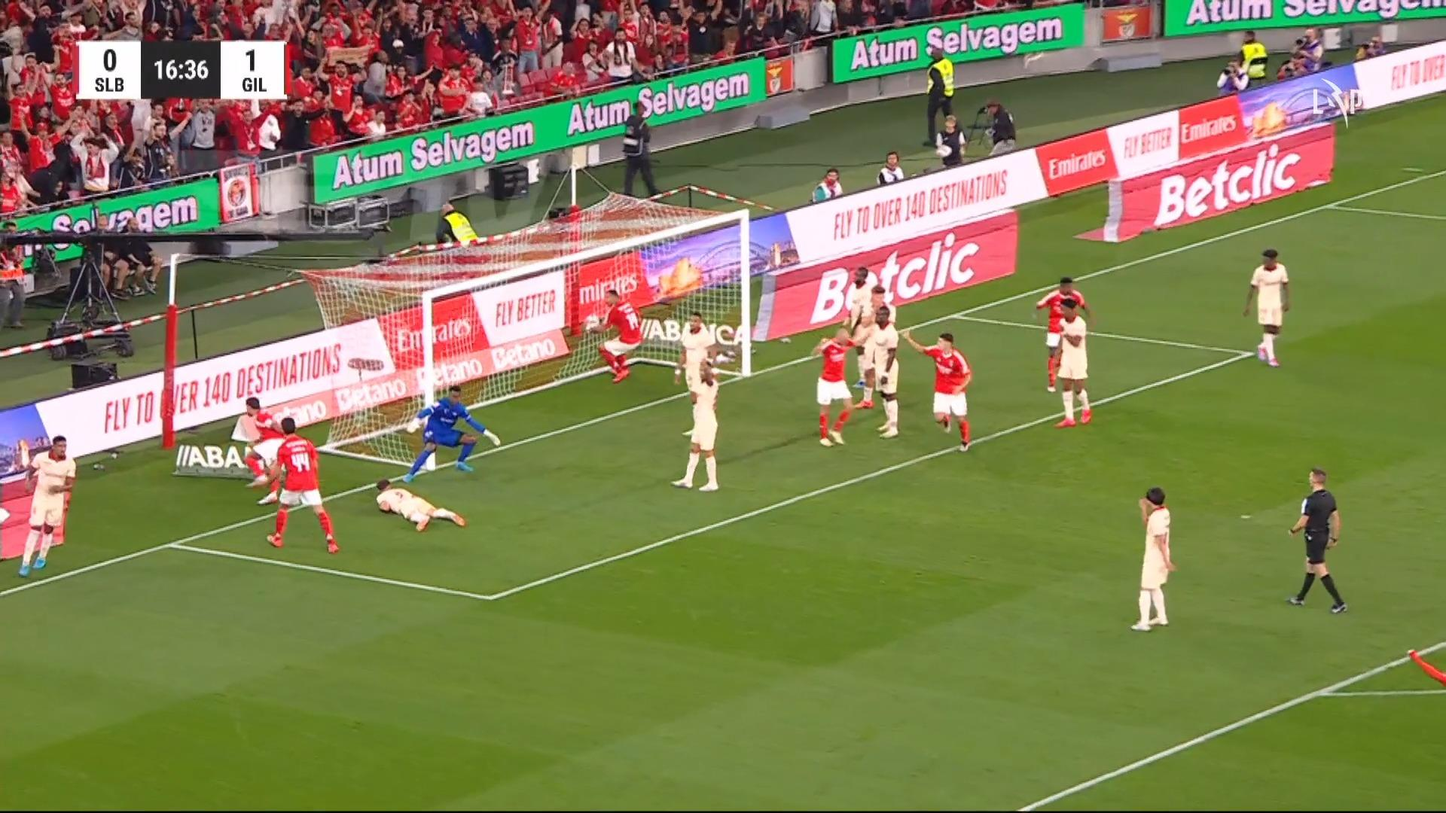ball: (584, 315, 600, 331)
goalkeeper: (400, 383, 501, 483)
player: (264, 416, 340, 554), (901, 327, 973, 452), (15, 434, 76, 577), (1129, 486, 1176, 632), (670, 358, 721, 492), (1035, 276, 1088, 393), (857, 303, 900, 438), (583, 288, 643, 383), (811, 326, 858, 446), (1243, 248, 1290, 367), (673, 312, 716, 435), (1052, 297, 1092, 428), (374, 478, 466, 532), (241, 396, 286, 504), (842, 265, 880, 388), (673, 312, 734, 386)
referee: (1286, 467, 1348, 614)
